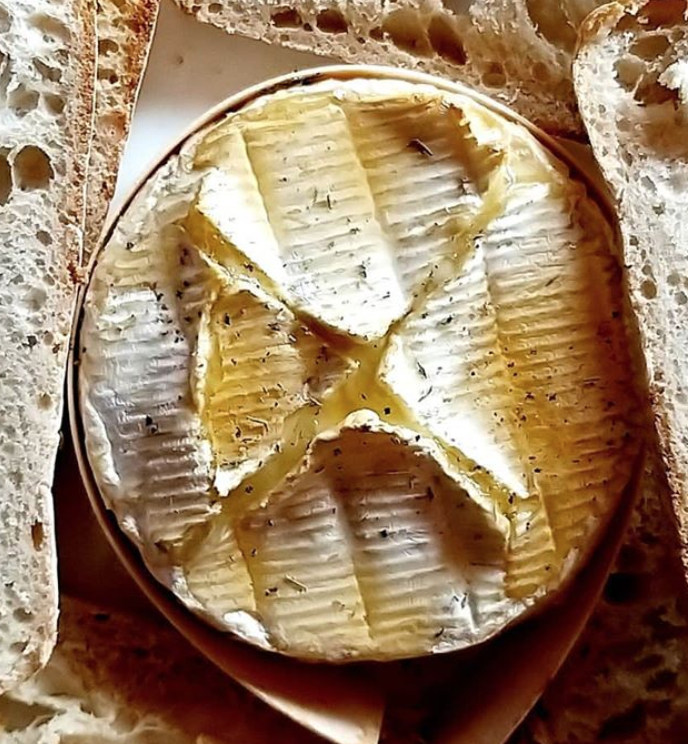camembert: (75, 72, 648, 667)
